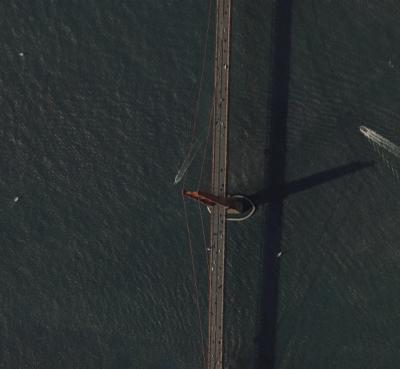Ships: (349, 106, 392, 143), (172, 160, 189, 190), (273, 238, 286, 263)
